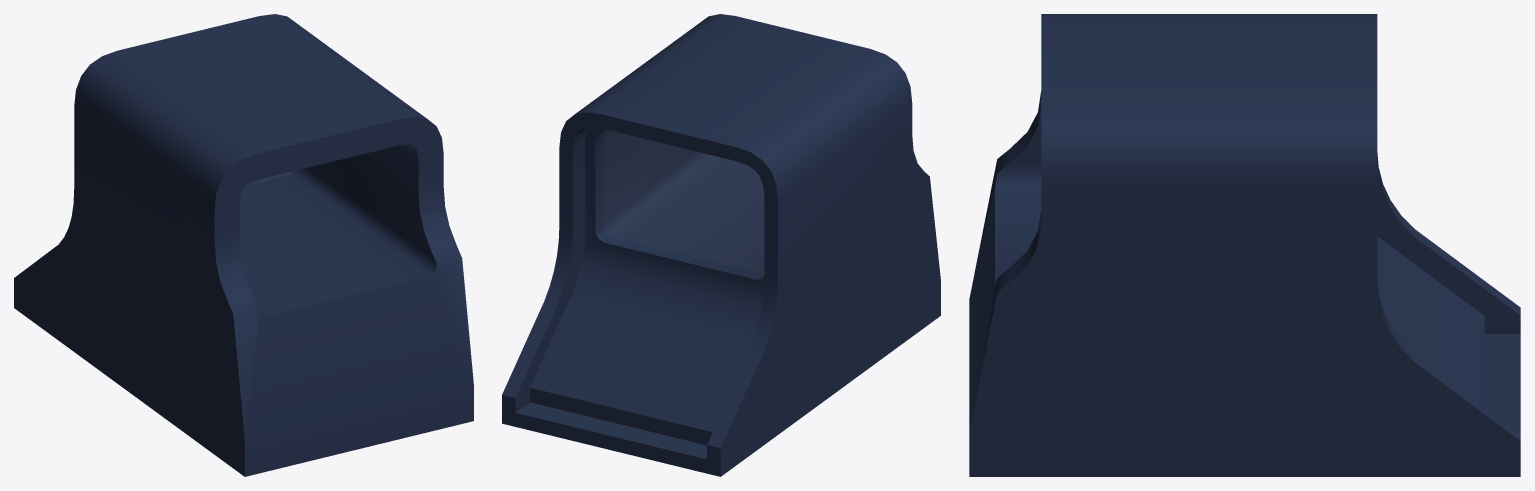
The model's file is TestScope.FBX.
3 renders of one model, left to right at view 1: azimuth 30°, elevation 25°; view 2: azimuth 150°, elevation 25°; view 3: azimuth 270°, elevation 25°, orthographic. The views are drawn at different scales.
Parts seen in each view (by area): view 1: Box002; view 2: Box002; view 3: Box002.
Part boxes in pixels (x1,y1,x2,y2): Box002: [14, 14, 473, 476]; Box002: [502, 14, 940, 476]; Box002: [969, 14, 1520, 476].
Size of the model in its own units: 105 by 128 by 183.
